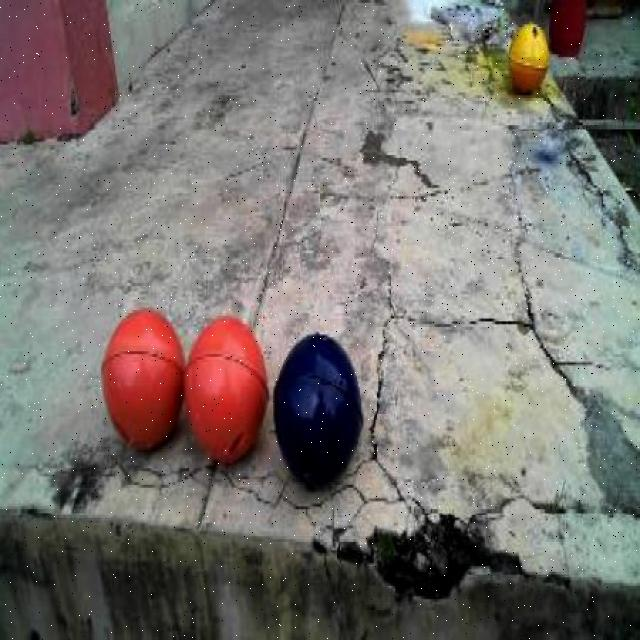buoy: (269, 318, 365, 501), (180, 303, 272, 479), (94, 298, 188, 461), (502, 16, 552, 98)
